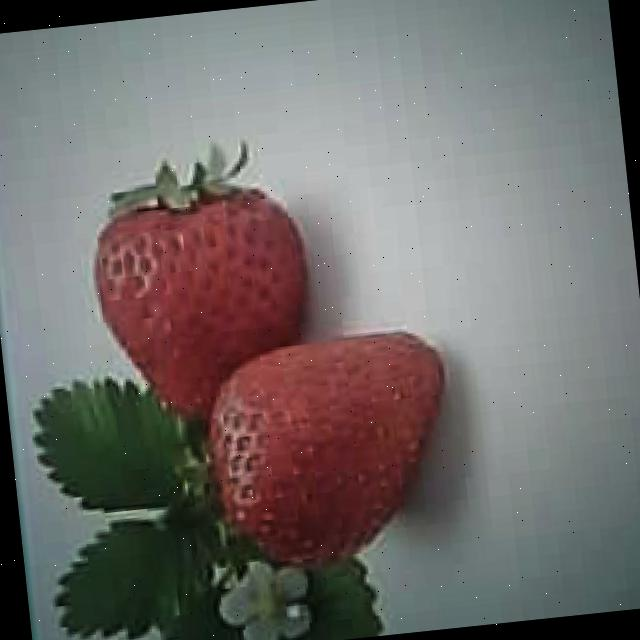strawberry: (195, 322, 456, 575), (87, 184, 322, 436)
